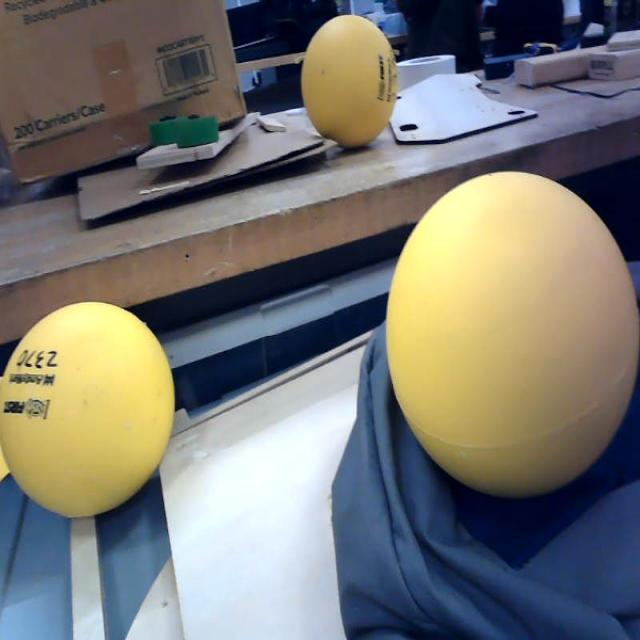Fuel: (386, 170, 638, 500), (0, 301, 174, 518), (303, 13, 397, 148)
